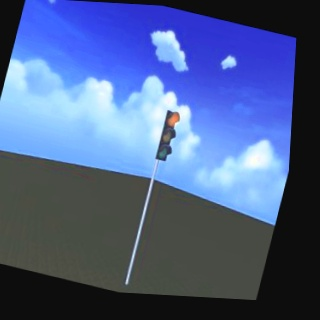sinalRed: (153, 107, 182, 165)
